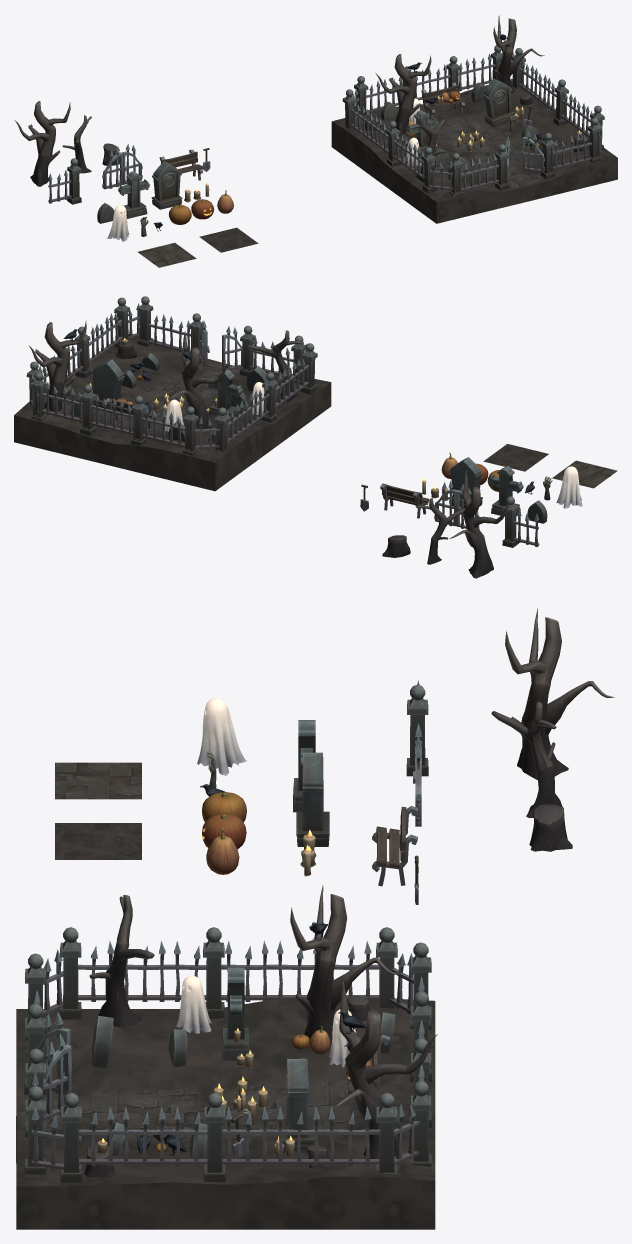
The model's file is Model5_HalloweenGraveyard.glb.
3 views of the same model, one above another, from view 1: azimuth 30°, elevation 25°; view 2: azimuth 150°, elevation 25°; view 3: azimuth 270°, elevation 25° (orthographic). The views are drawn at different scales.
Parts seen in each view (by area): view 1: sample_ground, tree_large.006, tree_large.007, tonbstone_large.005, tree_large.008, tonbstone_large.006, tombstone_cross.005, Plane.013, Plane.010, bench.006, tombstone_cross.006, bench.005 (+17 smaller); view 2: sample_ground, tree_large.006, tree_large.008, tree_large.007, tonbstone_large.006, Plane.013, tonbstone_large.005, tombstone_cross.005, tombstone_cross.006, Plane.010, bench.005, tree_small.008 (+22 smaller); view 3: sample_ground, tree_large.007, tree_large.006, tree_large.008, Plane.010, Plane.013, tree_small.008, tonbstone_large.005, ghost.006, tree_small.006, tonbstone_large.006, tombstone_cross.006 (+31 smaller).
Part boxes in pixels (box(x1,y1,x2,y2)): sample_ground: box(331, 79, 617, 223); tree_large.006: box(14, 101, 70, 186); tree_large.007: box(375, 54, 431, 135); tonbstone_large.005: box(151, 161, 182, 209); tree_large.008: box(493, 15, 544, 93); tonbstone_large.006: box(482, 78, 514, 127); tombstone_cross.005: box(118, 171, 149, 218); Plane.013: box(199, 227, 258, 252); Plane.010: box(138, 243, 196, 267); bench.006: box(421, 82, 465, 118); tombstone_cross.006: box(406, 110, 438, 154); bench.005: box(159, 149, 203, 180); sample_ground: box(14, 334, 331, 491); tree_large.006: box(449, 470, 510, 578); tree_large.008: box(28, 320, 86, 412); tree_large.007: box(168, 330, 229, 429); tonbstone_large.006: box(91, 359, 124, 408); Plane.013: box(483, 444, 548, 471); tonbstone_large.005: box(448, 457, 482, 508); tombstone_cross.005: box(488, 466, 523, 516); tombstone_cross.006: box(207, 369, 242, 415); Plane.010: box(552, 460, 617, 488); bench.005: box(380, 483, 429, 518); tree_small.008: box(247, 330, 303, 404); sample_ground: box(16, 998, 435, 1229); tree_large.007: box(290, 885, 400, 1045); tree_large.006: box(505, 608, 614, 779); tree_large.008: box(334, 981, 437, 1158); Plane.010: box(55, 762, 141, 799); Plane.013: box(55, 823, 141, 859); tree_small.008: box(89, 895, 154, 1028); tonbstone_large.005: box(296, 752, 329, 846); ghost.006: box(197, 698, 246, 775); tree_small.006: box(491, 702, 563, 817); tonbstone_large.006: box(281, 1058, 314, 1152); tombstone_cross.006: box(222, 967, 249, 1060).
Bounding box in the file's own units: 50.81 × 10.5 × 27.48.
7 materials, 7 textured.
